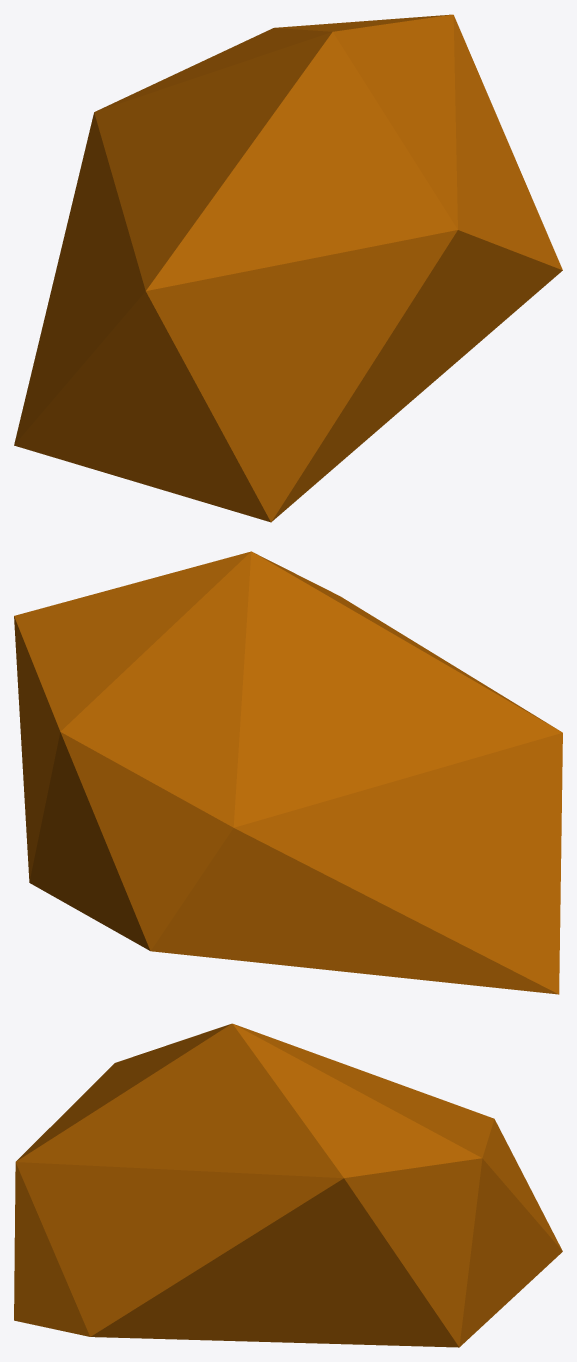
Rendered from Rock3.fbx.
The picture shows the model from 3 angles, top to bottom: view 1: azimuth 30°, elevation 25°; view 2: azimuth 150°, elevation 25°; view 3: azimuth 270°, elevation 25°; orthographic projection. The views are drawn at different scales.
Parts seen in each view (by area): view 1: Icosphere; view 2: Icosphere; view 3: Icosphere.
Part boxes in pixels (box(x1,y1,x2,y2)): Icosphere: box(14, 14, 562, 522); Icosphere: box(14, 551, 562, 994); Icosphere: box(14, 1023, 562, 1347).
Bounding box in the file's own units: 105 × 77.4 × 101.
